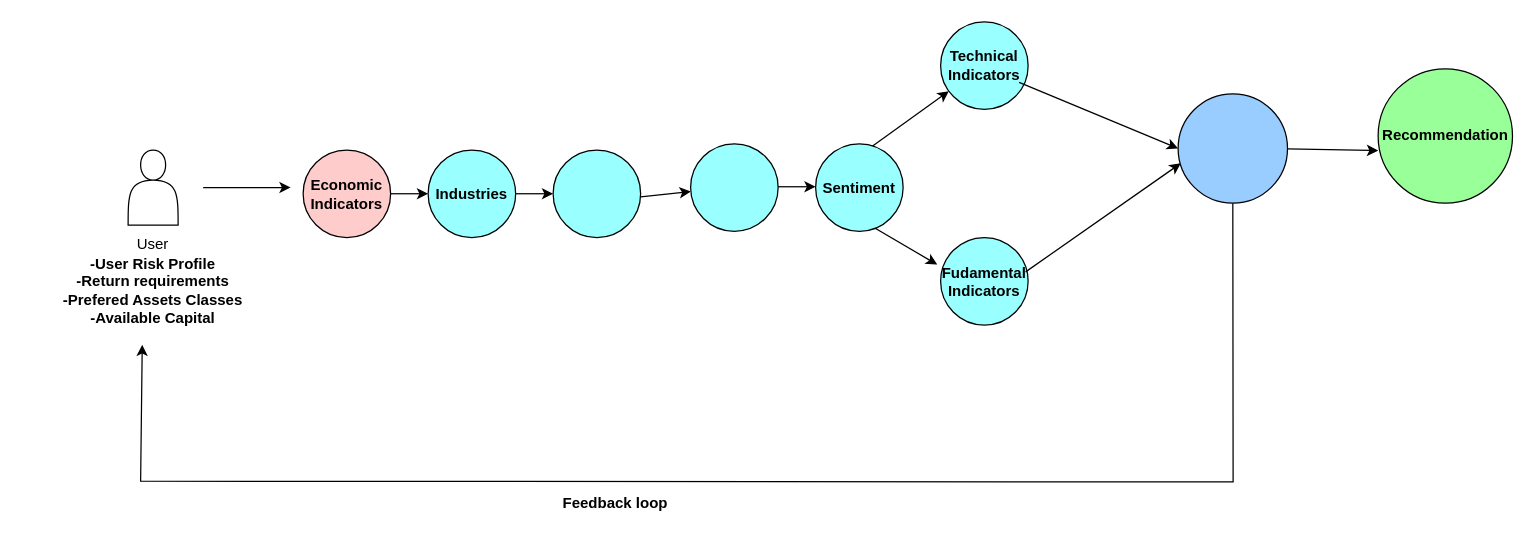
This 1534x544 diagram has some shape labels left out. The shapes that lost their labels are listed below. From the top down, each one's centre as x and y in pixels, then its label:
pixel 1232 147: Portfolio Optimization
pixel 596 193: Asset Classes
pixel 733 186: Companies
